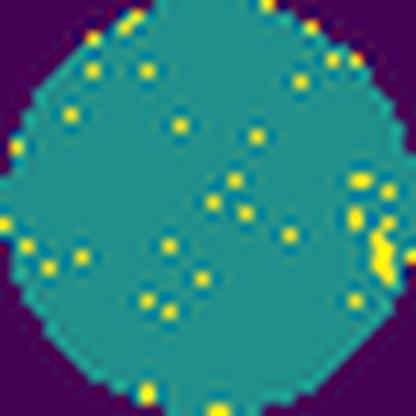Edge-Loc: (372, 232, 398, 292)
